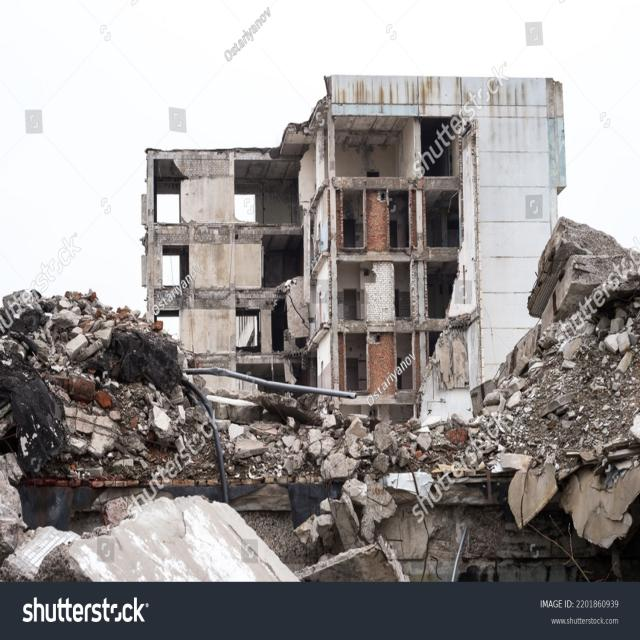Destroyed_building: (1, 2, 640, 586)
